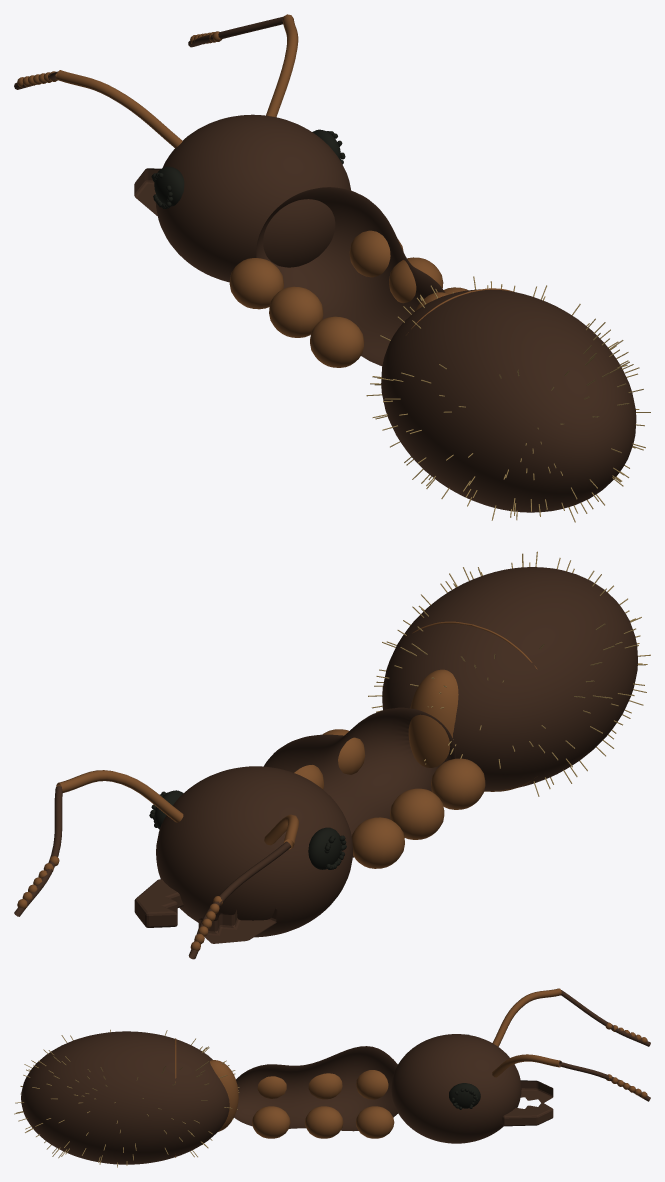
File: worker-ant.glb
3 views of the same model, one above another, from view 1: azimuth 30°, elevation 25°; view 2: azimuth 150°, elevation 25°; view 3: azimuth 270°, elevation 25° (orthographic). The views are drawn at different scales.
Visible parts, largest first — view 1: Gaster, Head capsule, Mesosoma saddle, Coxa -1 2, Coxa -1 1, Coxa -1 0, Antenna scape -1, Coxa 1 0, Coxa 1 1, Antenna scape 1, Compound eye -1, Mandible -1; view 2: Gaster, Head capsule, Mesosoma saddle, Petiolar node, Coxa -1 0, Coxa -1 2, Coxa -1 1, Mandible 1, Antenna scape 1, Mandible -1, Compound eye -1, Antenna funiculus 1 (+3 smaller); view 3: Gaster, Head capsule, Mesosoma saddle, Coxa 1 2, Coxa 1 1, Coxa 1 0, Mandible 1, Petiolar node, Coxa -1 0, Coxa -1 1, Antenna scape -1, Mandible -1 (+5 smaller).
Part boxes in pixels (x1=…): Gaster: x1=381, y1=289, x2=636, y2=512; Head capsule: x1=155, y1=114, x2=350, y2=282; Mesosoma saddle: x1=256, y1=187, x2=445, y2=365; Coxa -1 2: x1=310, y1=316, x2=364, y2=367; Coxa -1 1: x1=269, y1=286, x2=323, y2=337; Coxa -1 0: x1=229, y1=258, x2=283, y2=309; Antenna scape -1: x1=56, y1=70, x2=182, y2=148; Coxa 1 0: x1=349, y1=230, x2=403, y2=277; Coxa 1 1: x1=389, y1=257, x2=443, y2=303; Antenna scape 1: x1=266, y1=14, x2=298, y2=117; Compound eye -1: x1=154, y1=166, x2=184, y2=206; Mandible -1: x1=134, y1=168, x2=160, y2=215; Gaster: x1=382, y1=567, x2=637, y2=790; Head capsule: x1=156, y1=766, x2=352, y2=937; Mesosoma saddle: x1=263, y1=707, x2=455, y2=857; Petiolar node: x1=408, y1=669, x2=458, y2=767; Coxa -1 0: x1=351, y1=817, x2=404, y2=868; Coxa -1 2: x1=431, y1=758, x2=485, y2=809; Coxa -1 1: x1=390, y1=788, x2=444, y2=839; Mandible 1: x1=134, y1=879, x2=183, y2=927; Antenna scape 1: x1=56, y1=770, x2=183, y2=822; Mandible -1: x1=198, y1=907, x2=277, y2=943; Compound eye -1: x1=308, y1=827, x2=341, y2=869; Antenna funiculus 1: x1=14, y1=786, x2=62, y2=916; Gaster: x1=21, y1=1031, x2=229, y2=1164; Head capsule: x1=391, y1=1034, x2=521, y2=1143; Mesosoma saddle: x1=234, y1=1046, x2=397, y2=1131; Coxa 1 2: x1=252, y1=1106, x2=290, y2=1138; Coxa 1 1: x1=305, y1=1106, x2=343, y2=1138; Coxa 1 0: x1=355, y1=1106, x2=394, y2=1138; Mandible 1: x1=501, y1=1102, x2=553, y2=1126; Petiolar node: x1=210, y1=1060, x2=238, y2=1131; Coxa -1 0: x1=356, y1=1070, x2=388, y2=1099; Coxa -1 1: x1=308, y1=1073, x2=342, y2=1099; Antenna scape -1: x1=492, y1=988, x2=561, y2=1046; Mandible -1: x1=520, y1=1080, x2=553, y2=1102.
Bounding box in the file's own units: 0.8717 × 0.722 × 3.13.
